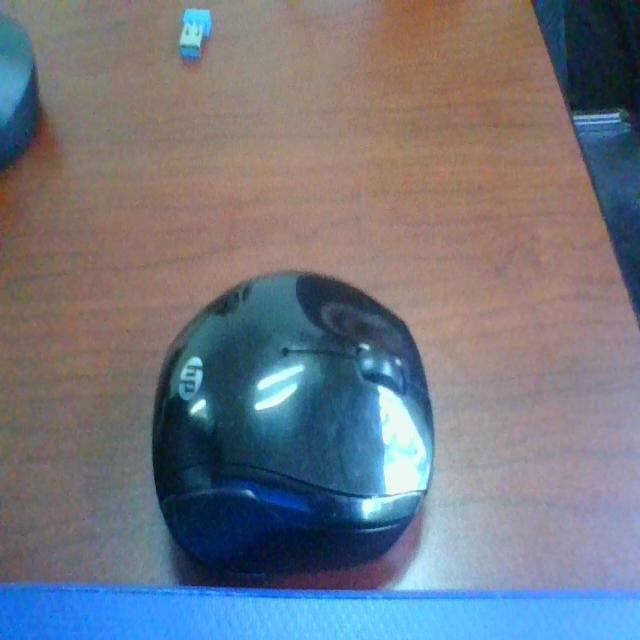mouse: (130, 224, 465, 558)
